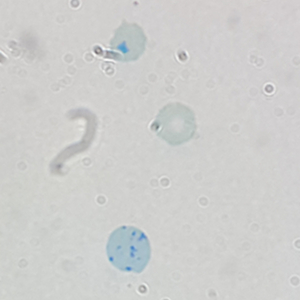aggregate reticulocyte: (104, 224, 153, 276)
erythrocyte: (152, 100, 199, 147), (107, 18, 150, 65)
